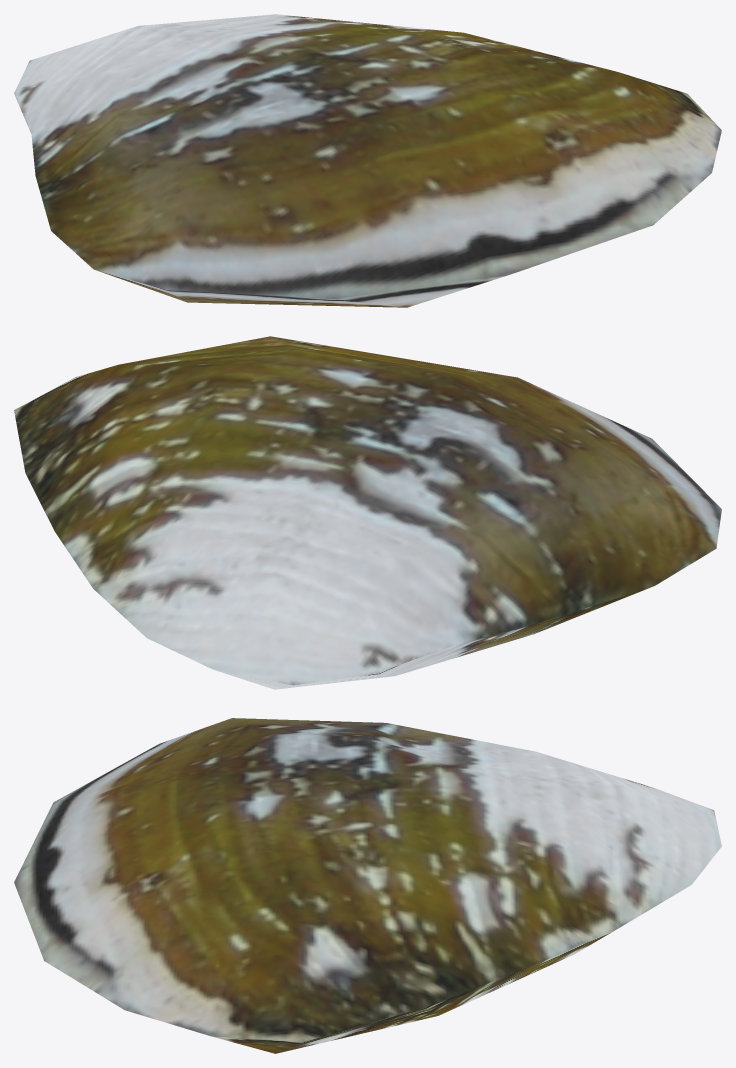
File: SeaShell-14_LOD0_FattooCreater.glb
3 renders of one model, top to bottom at view 1: azimuth 30°, elevation 25°; view 2: azimuth 150°, elevation 25°; view 3: azimuth 270°, elevation 25°, orthographic. The views are drawn at different scales.
Parts seen in each view (by area): view 1: SeaShell-14_high; view 2: SeaShell-14_high; view 3: SeaShell-14_high.
Boxes of the visible parts, <box> form: SeaShell-14_high: <box>14,14,721,307</box>; SeaShell-14_high: <box>14,336,721,689</box>; SeaShell-14_high: <box>14,718,721,1053</box>.
Bounding box in the file's own units: 0.0222 × 0.00621 × 0.0211.
Materials: 1 (1 with a texture image).
